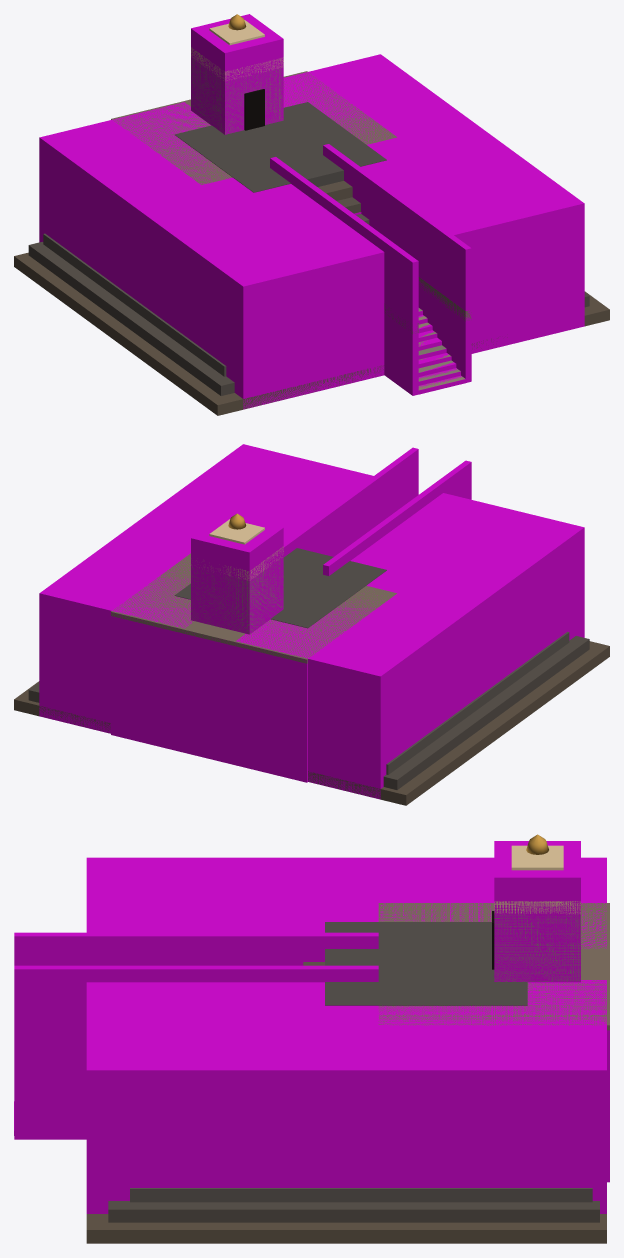
Rendered from ENV_Hill_Temple_A.glb.
The picture shows the model from 3 angles, top to bottom: view 1: azimuth 30°, elevation 25°; view 2: azimuth 150°, elevation 25°; view 3: azimuth 270°, elevation 25°; orthographic projection. The views are drawn at different scales.
Visible parts, largest first — view 1: COL_Rock_W, COL_Rock_E, ENV_Hill_Temple_A_Mesh, COL_Parapet_L, COL_Shrine, COL_Parapet_R; view 2: COL_Rock_W, ENV_Hill_Temple_A_Mesh, COL_Rock_E, WALK_Summit, COL_Shrine, COL_Parapet_L, COL_Parapet_R; view 3: COL_Rock_E, ENV_Hill_Temple_A_Mesh, COL_Rock_W, COL_Parapet_L, COL_Parapet_R, COL_Shrine.
Boxes of the visible parts, box(x1,y1,x2,y2) form: COL_Rock_W: box(39, 102, 384, 409); COL_Rock_E: box(283, 54, 584, 353); ENV_Hill_Temple_A_Mesh: box(14, 14, 609, 415); COL_Parapet_L: box(323, 144, 471, 382); COL_Shrine: box(191, 14, 283, 134); COL_Parapet_R: box(270, 157, 418, 395); COL_Rock_W: box(236, 493, 584, 799); ENV_Hill_Temple_A_Mesh: box(14, 513, 609, 805); COL_Rock_E: box(39, 444, 373, 733); WALK_Summit: box(111, 612, 307, 782); COL_Shrine: box(191, 513, 283, 634); COL_Parapet_L: box(283, 447, 418, 557); COL_Parapet_R: box(323, 460, 471, 575); COL_Rock_E: box(86, 980, 606, 1213); ENV_Hill_Temple_A_Mesh: box(86, 834, 609, 1243); COL_Rock_W: box(86, 857, 606, 948); COL_Parapet_L: box(14, 965, 378, 1139); COL_Parapet_R: box(14, 932, 378, 965); COL_Shrine: box(494, 841, 580, 982).
Size of the model in its own units: 20 by 10.95 by 20.61.
